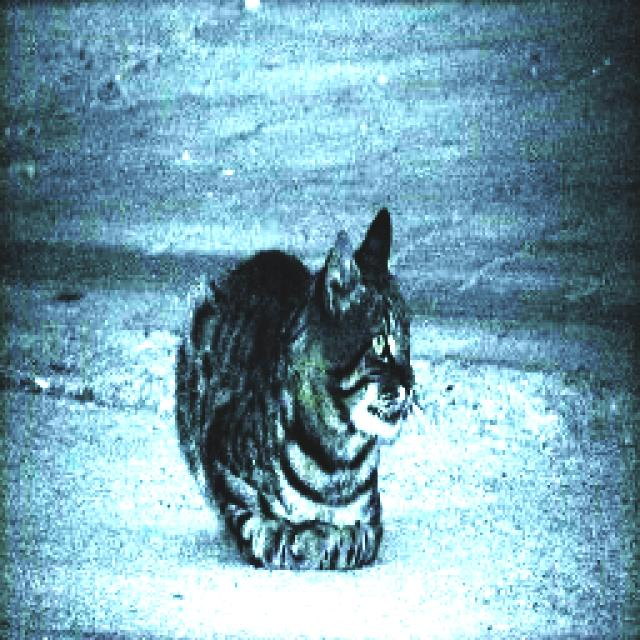cat: (170, 206, 418, 580)
